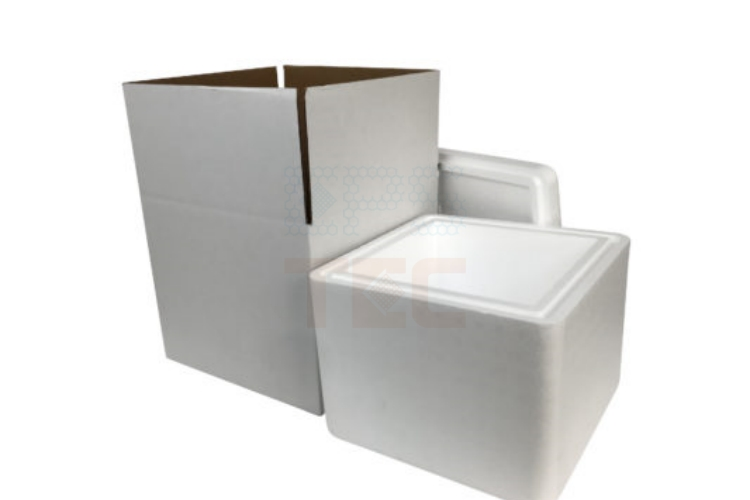Boxes: (312, 215, 628, 500)
